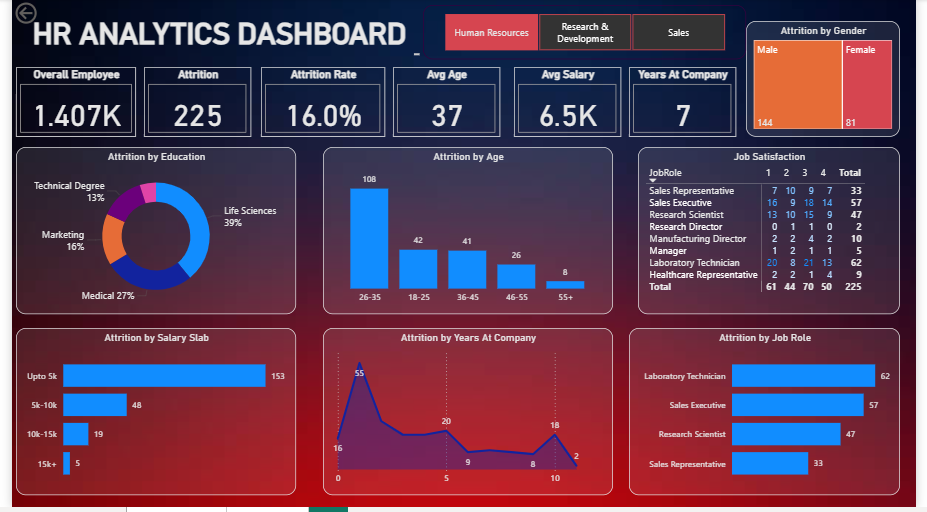

This screenshot's page, from the dashboard's own definition file:
{"tool":"powerbi","page":{"name":"Dashboard","canvas":[1280,720],"ordinal":0},"visuals":[{"type":"cardVisual","title":"Overall Employee","fields":{"Data":["CountNonNull(HR_Analytics.EmpID)"]},"box":[5.7,96.4,170.1,99.2],"z":0},{"type":"cardVisual","title":"Attrition","fields":{"Data":["Sum(HR_Analytics.AttritionCount)"]},"box":[187.1,96.4,151.7,99.2],"z":1000},{"type":"cardVisual","title":"Years At Company","fields":{"Data":["Avg(HR_Analytics.YearsAtCompany)"]},"box":[874.5,96.4,151.7,99.2],"z":2000},{"type":"cardVisual","title":"Attrition Rate","fields":{"Data":["HR_Analytics.AttritionRate"]},"box":[352.9,96.4,175.7,99.2],"z":3000},{"type":"cardVisual","title":"Avg Age","fields":{"Data":["Avg(HR_Analytics.Age)"]},"box":[540,96.4,151.7,99.2],"z":4000},{"type":"cardVisual","title":"Avg Salary","fields":{"Data":["Avg(HR_Analytics.MonthlyIncome)"]},"box":[711.5,96.4,151.7,99.2],"z":5000},{"type":"donutChart","title":"Attrition by Education","fields":{"Category":["HR_Analytics.EducationField"],"Y":["Sum(HR_Analytics.AttritionCount)"]},"box":[5.7,209.8,396.9,236.7],"z":6000},{"type":"columnChart","title":"Attrition by Age","fields":{"Category":["HR_Analytics.AgeGroup"],"Y":["Sum(HR_Analytics.AttritionCount)"]},"box":[440.8,209.8,411,236.7],"z":7000},{"type":"pivotTable","title":"Job Satisfaction","fields":{"Rows":["HR_Analytics.JobRole"],"Columns":["HR_Analytics.JobSatisfaction"],"Values":["Sum(HR_Analytics.AttritionCount)"]},"box":[887.2,209.8,371.3,236.7],"z":8000},{"type":"actionButton","box":[0,0,100,40],"z":9000},{"type":"barChart","title":"Attrition by Salary Slab","fields":{"Category":["HR_Analytics.SalarySlab"],"Y":["Sum(HR_Analytics.AttritionCount)"]},"box":[5.7,466.3,396.9,236.7],"z":10000},{"type":"barChart","title":"Attrition by Job Role","fields":{"Category":["HR_Analytics.JobRole"],"Y":["Sum(HR_Analytics.AttritionCount)"]},"box":[874.5,466.3,384.1,236.7],"z":11000},{"type":"areaChart","title":"Attrition by Years At Company","fields":{"Category":["HR_Analytics.YearsAtCompany"],"Y":["Sum(HR_Analytics.AttritionCount)"]},"box":[440.8,466.3,411,236.7],"z":12000},{"type":"treemap","title":"Attrition by Gender","fields":{"Group":["HR_Analytics.Gender"],"Values":["Sum(HR_Analytics.AttritionCount)"]},"box":[1040.3,31.2,218.3,164.4],"z":13000},{"type":"slicer","fields":{"Values":["HR_Analytics.Department"]},"box":[582.5,8.5,457.8,76.5],"z":14000},{"type":"textbox","title":"HR ANALYTICS DASHBOARD","box":[5.7,19.8,576.9,65.2],"z":15000}]}

Visuals, with their boxes in screenshot pixels (x1, y1, x2, y2), scaled from the page's 1280x720 canvas onto the 927x512 screenshot:
"Overall Employee" cardVisual: (left=4, top=69, right=127, bottom=139)
"Attrition" cardVisual: (left=136, top=69, right=245, bottom=139)
"Years At Company" cardVisual: (left=633, top=69, right=743, bottom=139)
"Attrition Rate" cardVisual: (left=256, top=69, right=383, bottom=139)
"Avg Age" cardVisual: (left=391, top=69, right=501, bottom=139)
"Avg Salary" cardVisual: (left=515, top=69, right=625, bottom=139)
"Attrition by Education" donutChart: (left=4, top=149, right=292, bottom=318)
"Attrition by Age" columnChart: (left=319, top=149, right=617, bottom=318)
"Job Satisfaction" pivotTable: (left=643, top=149, right=911, bottom=318)
actionButton: (left=0, top=0, right=72, bottom=28)
"Attrition by Salary Slab" barChart: (left=4, top=332, right=292, bottom=500)
"Attrition by Job Role" barChart: (left=633, top=332, right=912, bottom=500)
"Attrition by Years At Company" areaChart: (left=319, top=332, right=617, bottom=500)
"Attrition by Gender" treemap: (left=753, top=22, right=912, bottom=139)
slicer - HR_Analytics.Department: (left=422, top=6, right=753, bottom=60)
"HR ANALYTICS DASHBOARD" textbox: (left=4, top=14, right=422, bottom=60)
